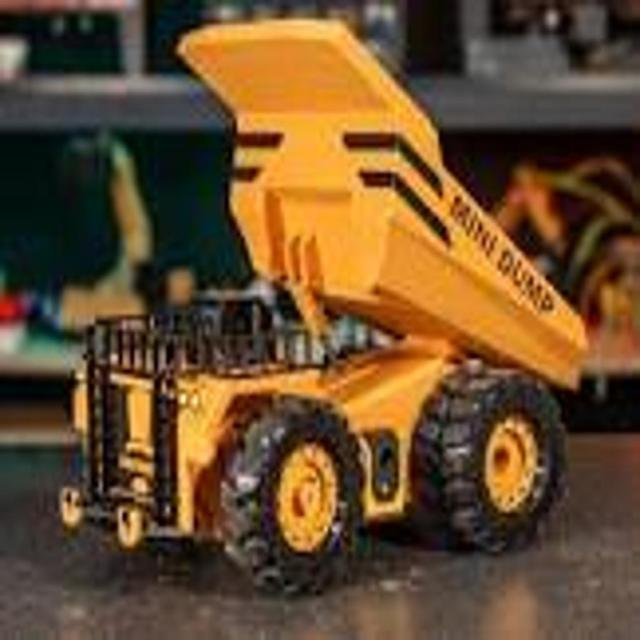dump_truck: (62, 9, 594, 598)
